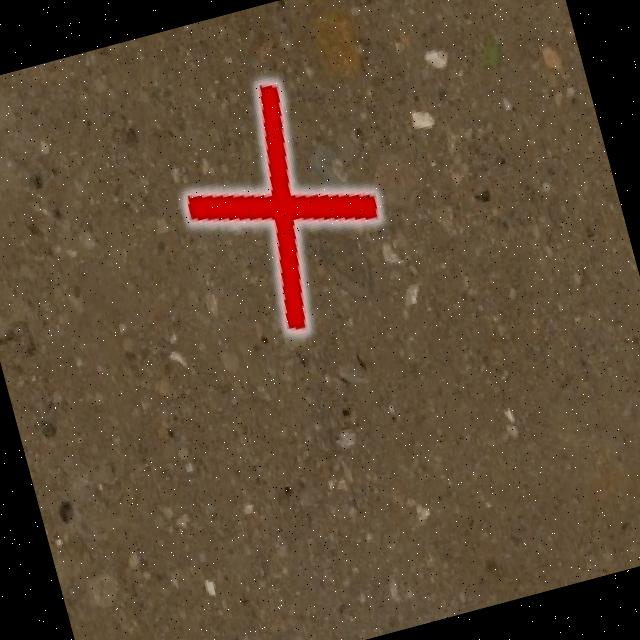x_marker: (159, 62, 403, 350)
